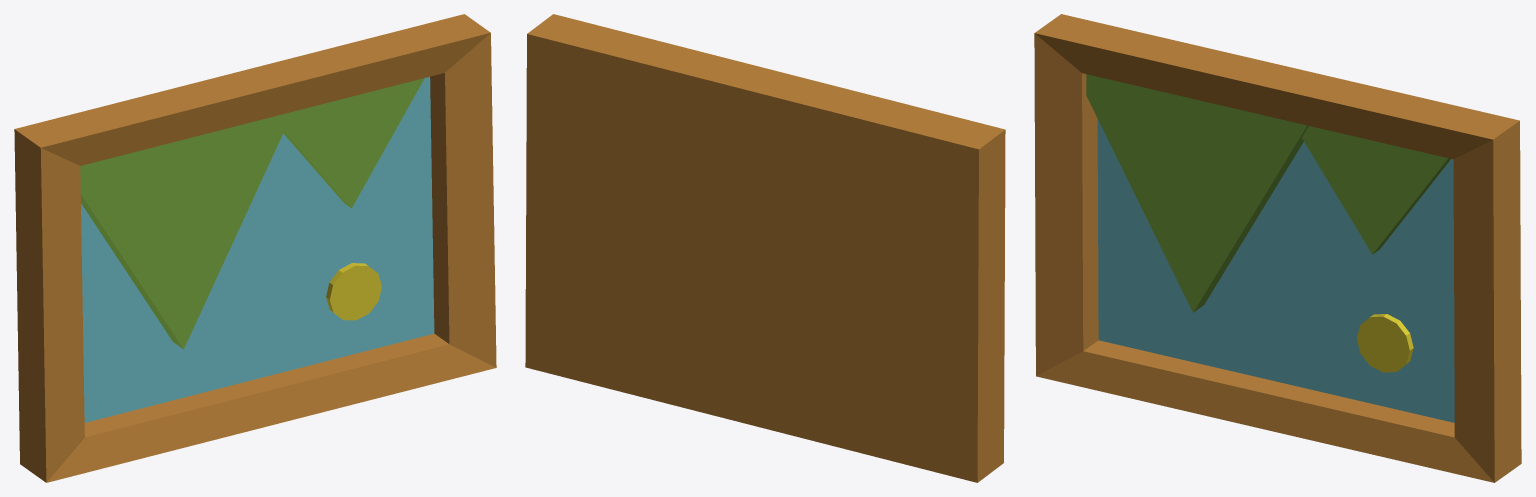
File: Frame.glb
The picture shows the model from 3 angles, left to right: view 1: azimuth 30°, elevation 25°; view 2: azimuth 150°, elevation 25°; view 3: azimuth 330°, elevation 25°; orthographic projection.
Visible parts, largest first — view 1: node_MeshObject-1308988608-PolyPaper9; view 2: node_MeshObject-1308988608-PolyPaper9; view 3: node_MeshObject-1308988608-PolyPaper9.
Part boxes in pixels (box(x1,y1,x2,y2)): node_MeshObject-1308988608-PolyPaper9: box(14, 14, 496, 482); node_MeshObject-1308988608-PolyPaper9: box(525, 14, 1005, 482); node_MeshObject-1308988608-PolyPaper9: box(1034, 14, 1521, 482).
Bounding box in the file's own units: 0.6954 × 0.4984 × 0.0755.
